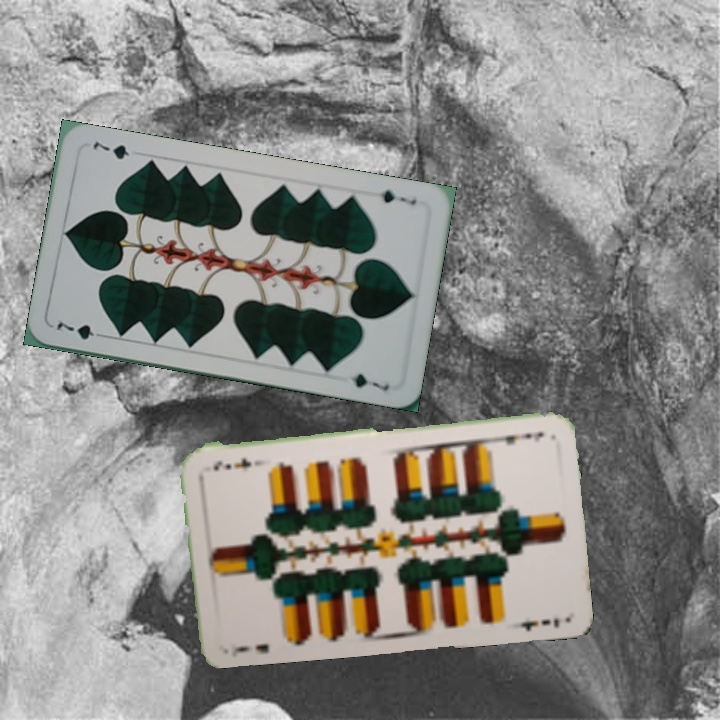E7: (492, 428, 546, 447), (228, 639, 272, 657)
G7: (52, 317, 110, 342), (376, 185, 419, 207)
